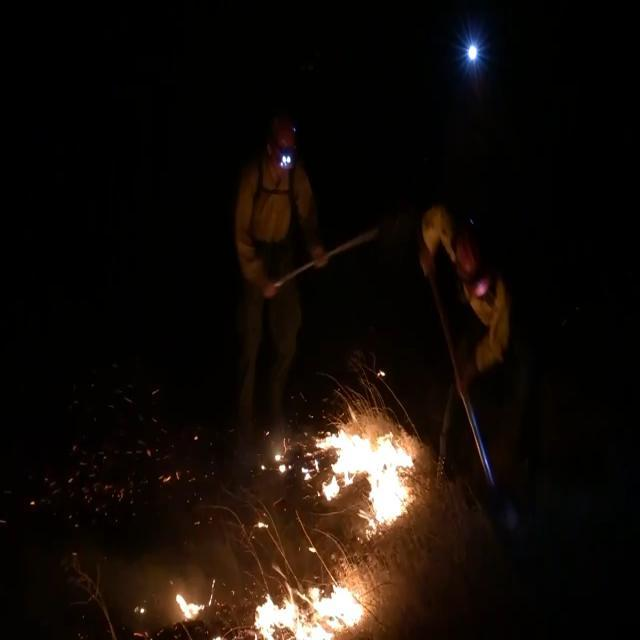Fire: (157, 383, 418, 640)
